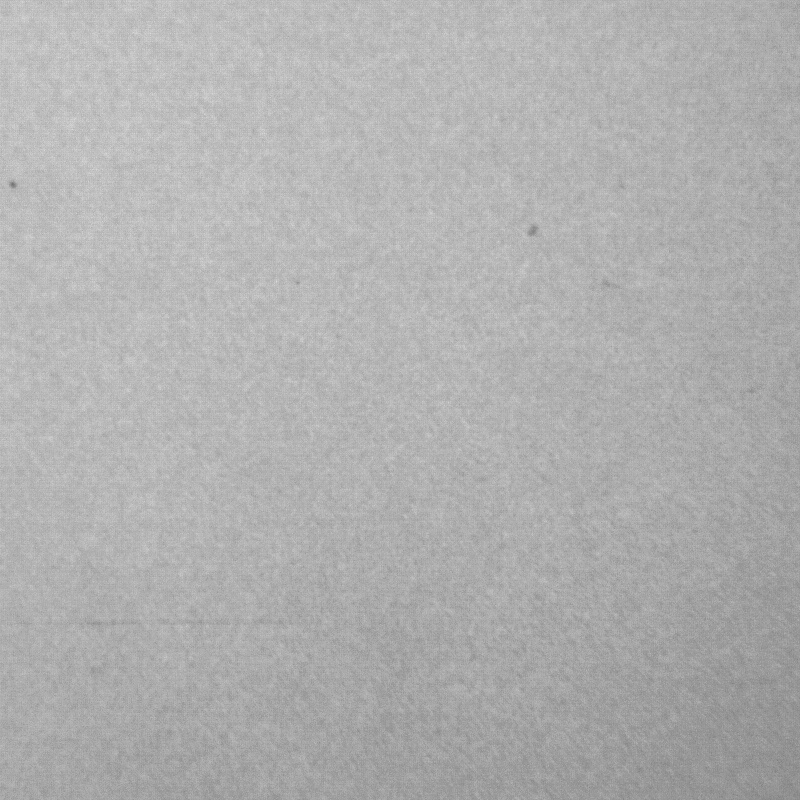defect: (57, 616, 311, 636), (2, 178, 29, 202), (520, 221, 548, 242)
